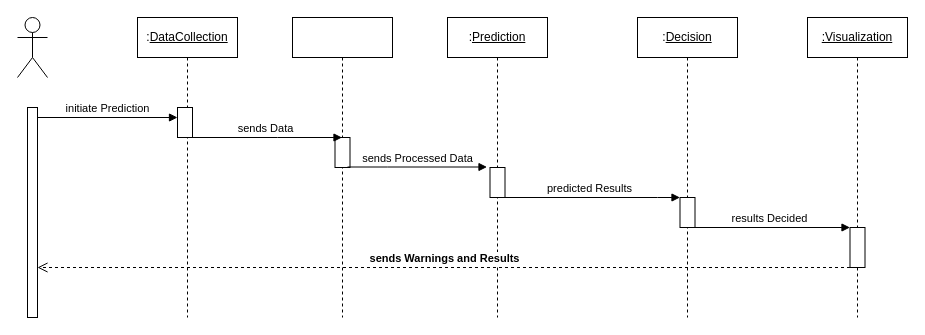
Image size: 925x335. Some labels were removed from this diagram. Each missing label, with the box of its shape:
: Preprocessing: (292, 16, 392, 318)
Actor: (16, 16, 48, 78)
